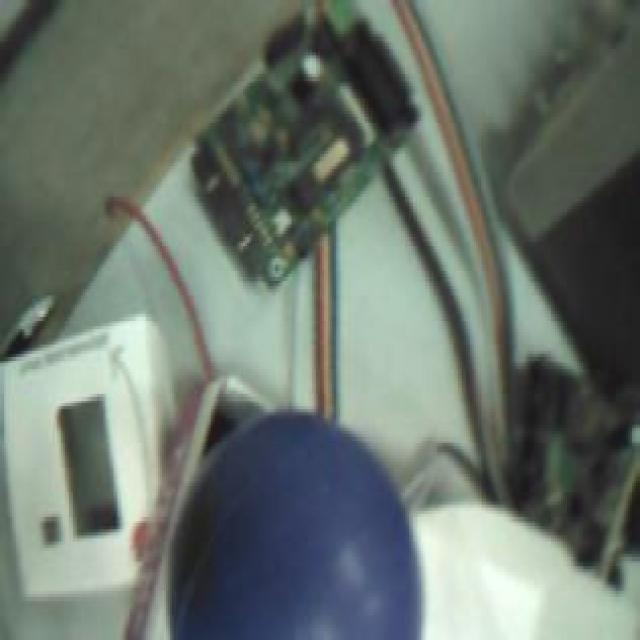BallPurple: (171, 411, 418, 640)
